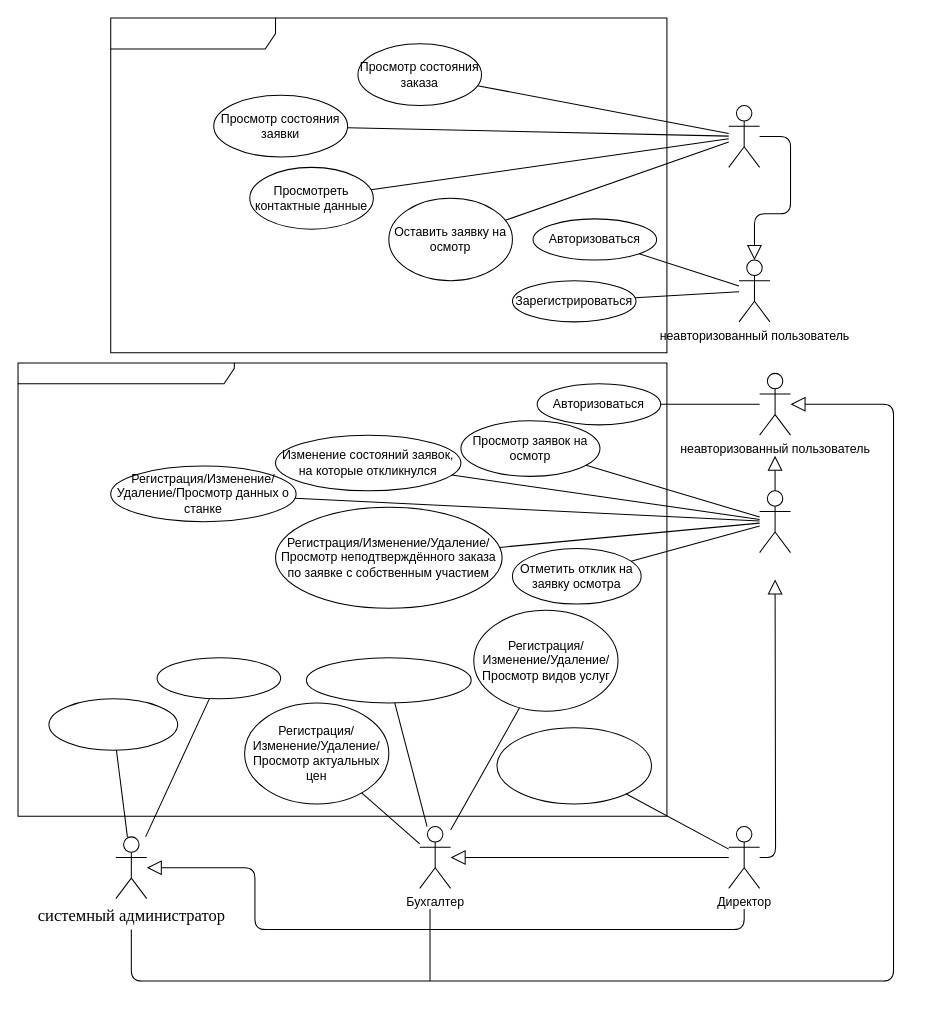
This 926x1014 diagram has some shape labels left out. Each missing label, with the box of its shape:
Десктопное приложение: (17, 362, 667, 816)
Добавления/Изменение/Удаление/Просмотр любых сущностей: (496, 727, 651, 804)
Изменения паролей пользователей: (48, 698, 178, 750)
Мастер: (759, 490, 791, 553)
Перевод заказа в подтверждённые: (305, 657, 471, 703)
Потребитель (компания): (728, 105, 760, 167)
Регистрация пользователей: (156, 657, 281, 699)
Сайт: (110, 17, 667, 353)
